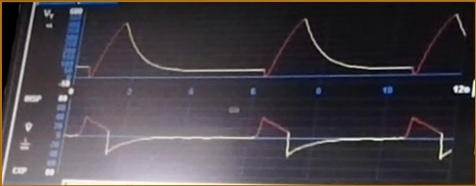Flow: (67, 115, 453, 170)
Leakage Volume: (76, 13, 469, 81)
